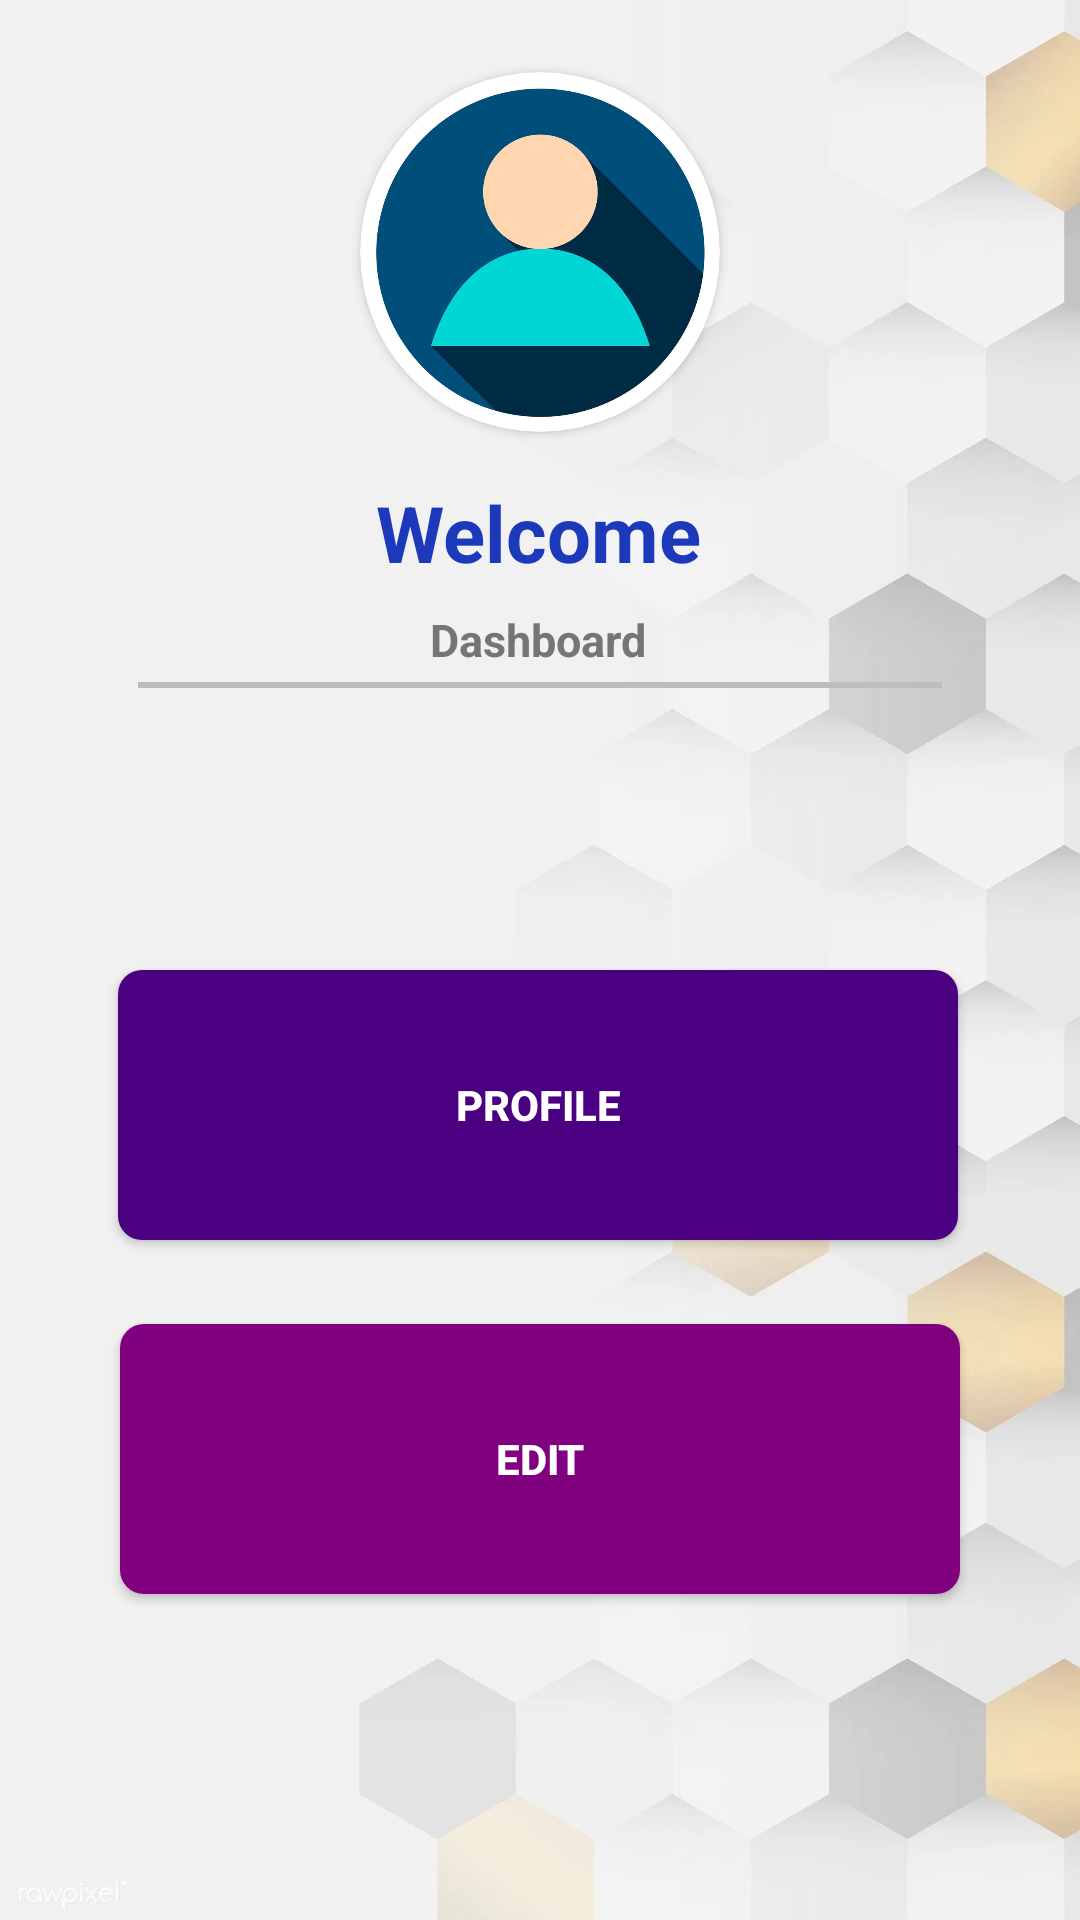

Where icons sit on this 1080×1920 app screen, as (x1, y1, x2, y2):
profie: (376, 88, 715, 417)
